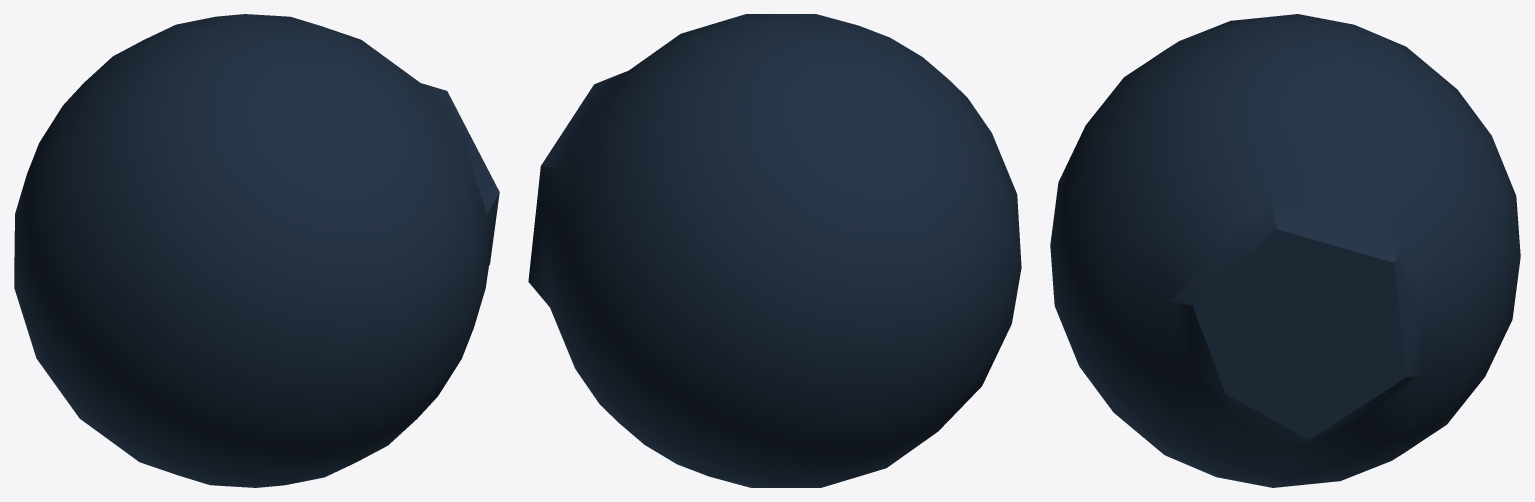
Rendered from shoulder_left.fbx.
3 views of the same model, side by side, from view 1: azimuth 30°, elevation 25°; view 2: azimuth 150°, elevation 25°; view 3: azimuth 270°, elevation 25° (orthographic).
Visible parts, largest first — view 1: robo; view 2: robo; view 3: robo.
Boxes of the visible parts, x1=… form: robo: x1=14, y1=14, x2=499, y2=487; robo: x1=528, y1=14, x2=1021, y2=487; robo: x1=1050, y1=14, x2=1520, y2=487.
Bounding box in the file's own units: 22.64 × 22.47 × 22.39.
